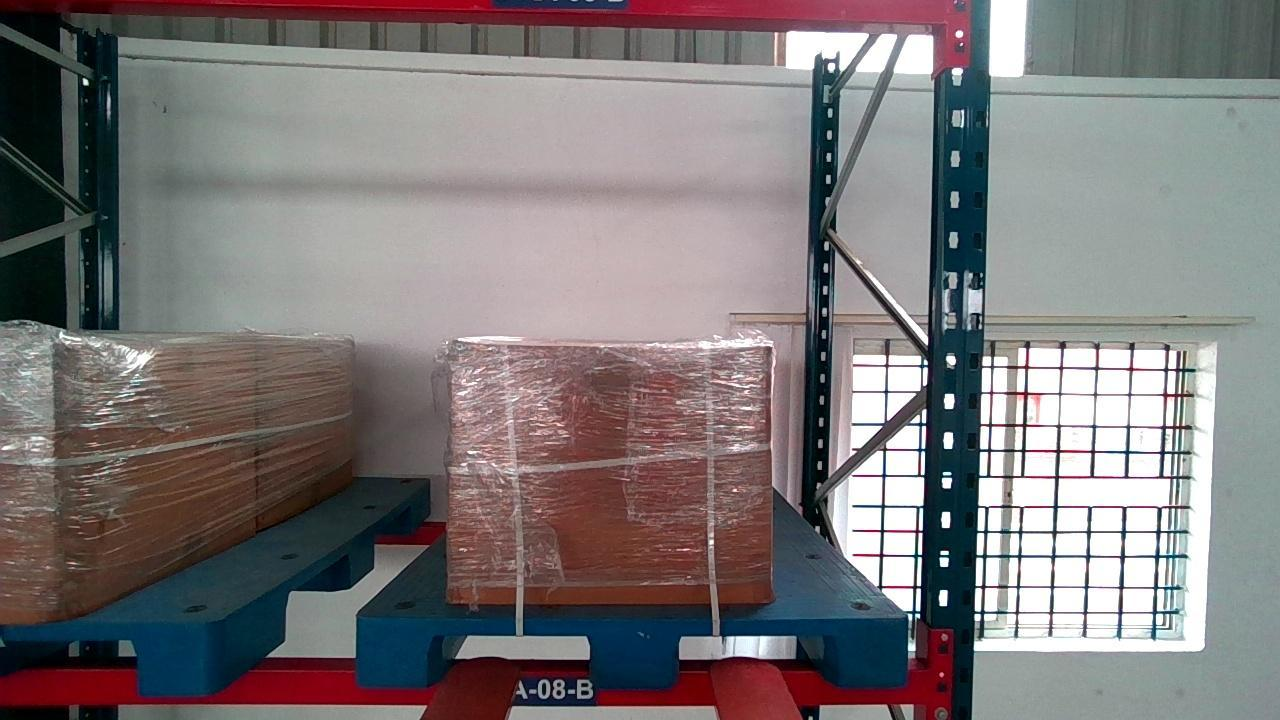h_rack: (0, 665, 926, 703)
small_pallet: (354, 614, 910, 686)
